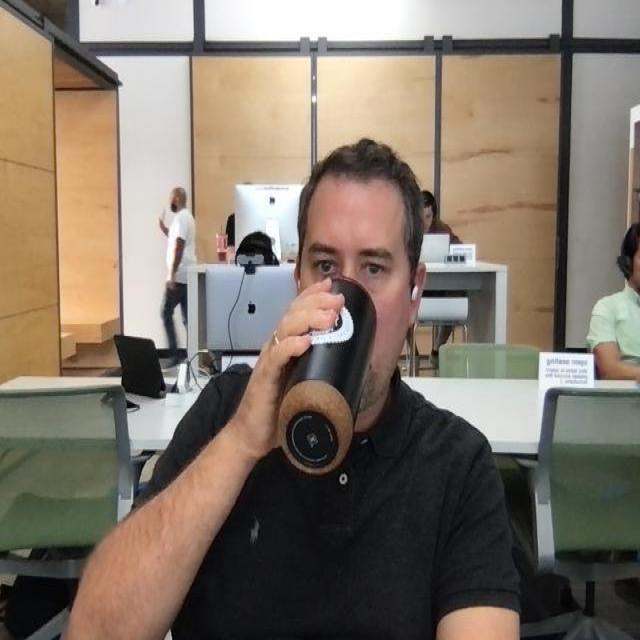face: (291, 140, 424, 416), (168, 187, 190, 217), (421, 203, 437, 233)
